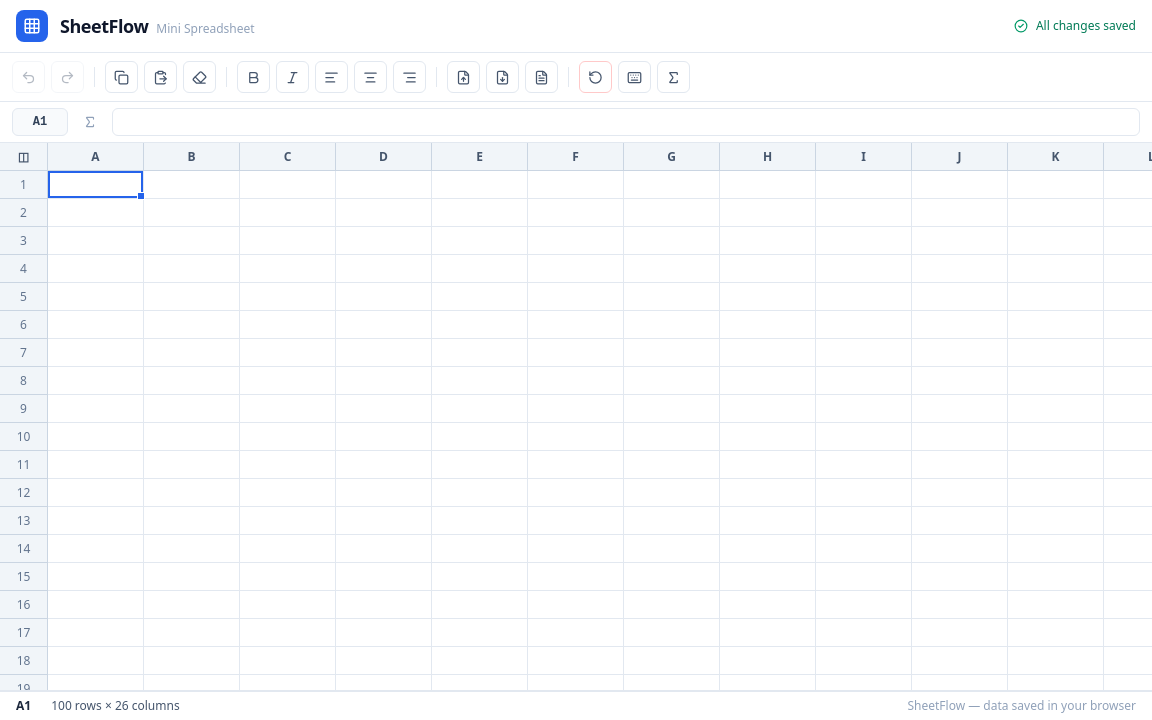
formula guide content › groups the reference into five labelled sections
Step 1. Click the button named "Formulas" → (674, 77), box [657,61,690,93]
(page scrolled)
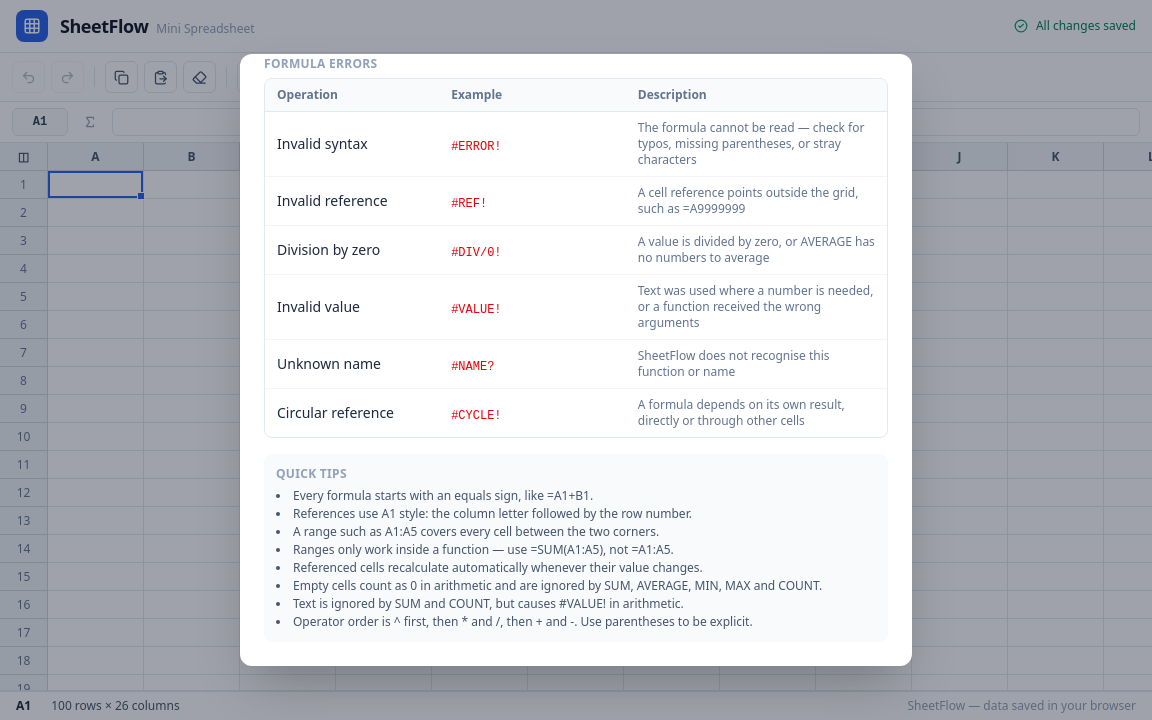
Check: the heading "Formula Errors" is shown, box [264,55,378,72]
Check: the heading "Quick Tips" is shown, box [276,465,347,482]
